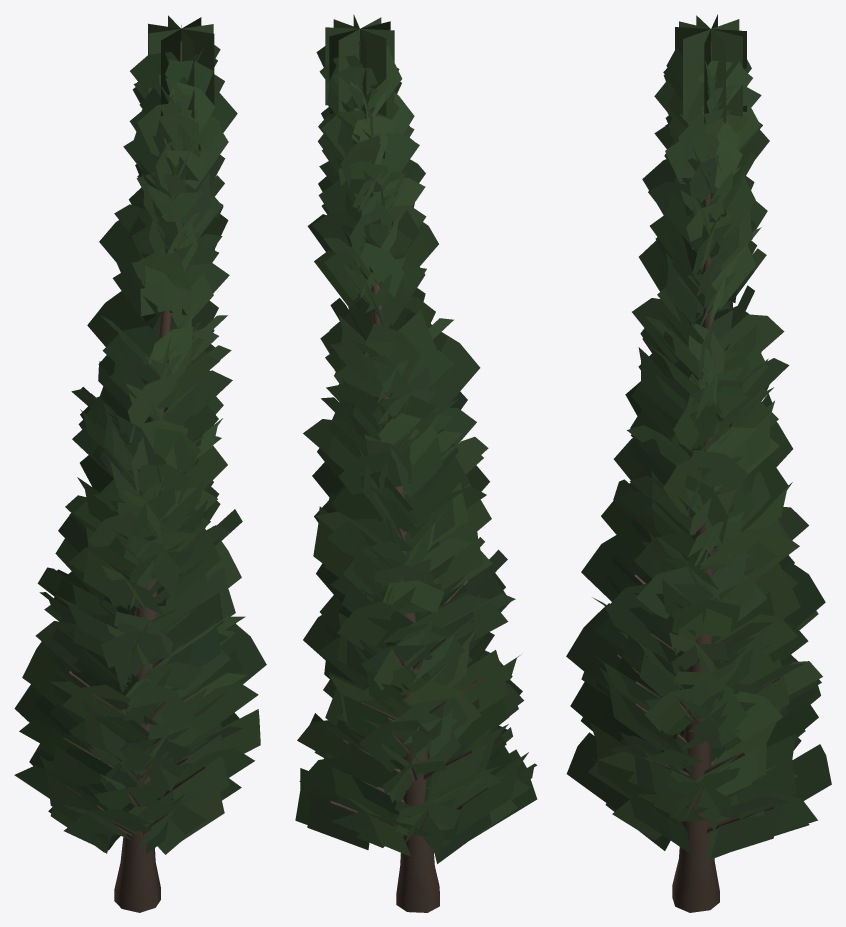
File: conifer.cypress.green.glb
3 renders of one model, left to right at view 1: azimuth 30°, elevation 25°; view 2: azimuth 150°, elevation 25°; view 3: azimuth 270°, elevation 25°, orthographic. The views are drawn at different scales.
Visible parts, largest first — view 1: conifer_cypress_green; view 2: conifer_cypress_green; view 3: conifer_cypress_green.
Part boxes in pixels (<box>): conifer_cypress_green: <box>14,15,266,912</box>; conifer_cypress_green: <box>295,14,537,912</box>; conifer_cypress_green: <box>566,14,831,912</box>.
Size of what is drawn, in the model's own units: 2.91 by 11.12 by 2.98.
